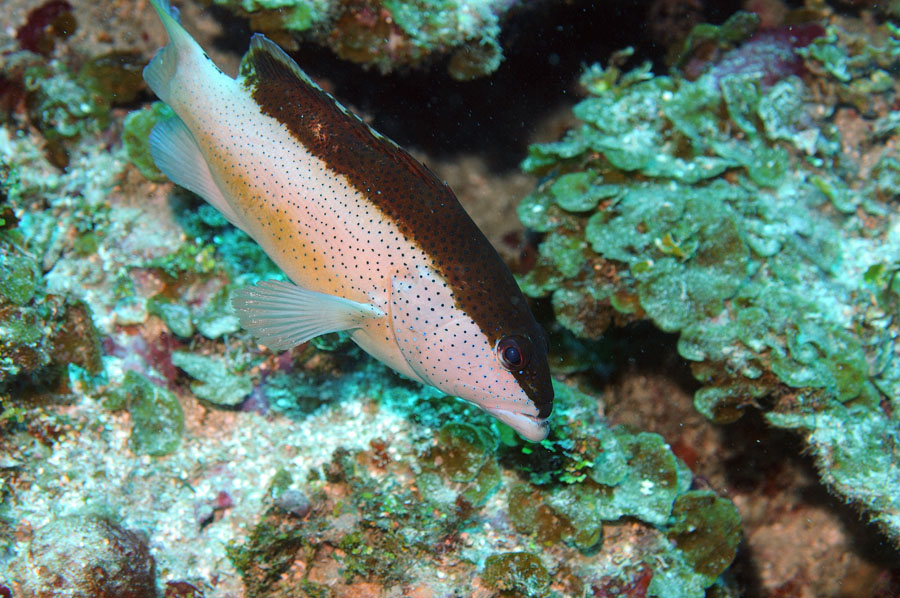Cephalopholis_fulvaw: (82, 1, 605, 451)
